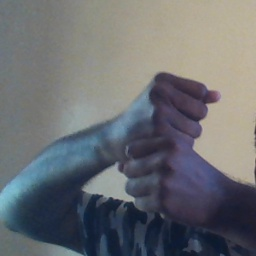G: (114, 65, 226, 218)
